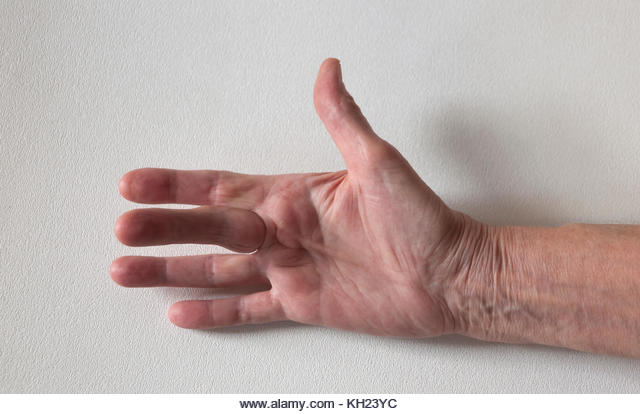non-diseased: (111, 60, 460, 351)
